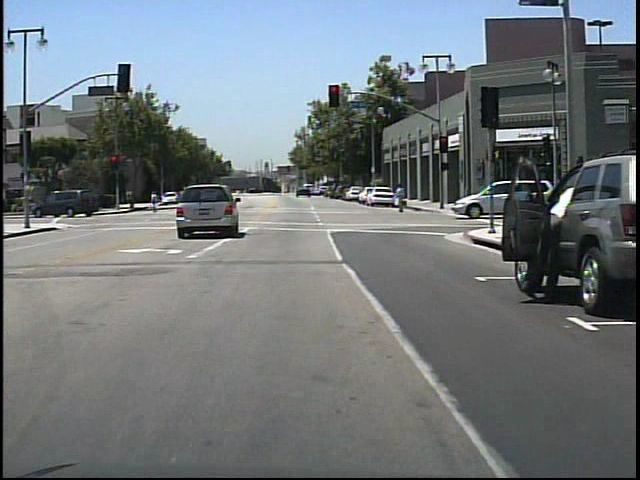person: (514, 160, 573, 301), (393, 182, 412, 217), (150, 189, 165, 217)
